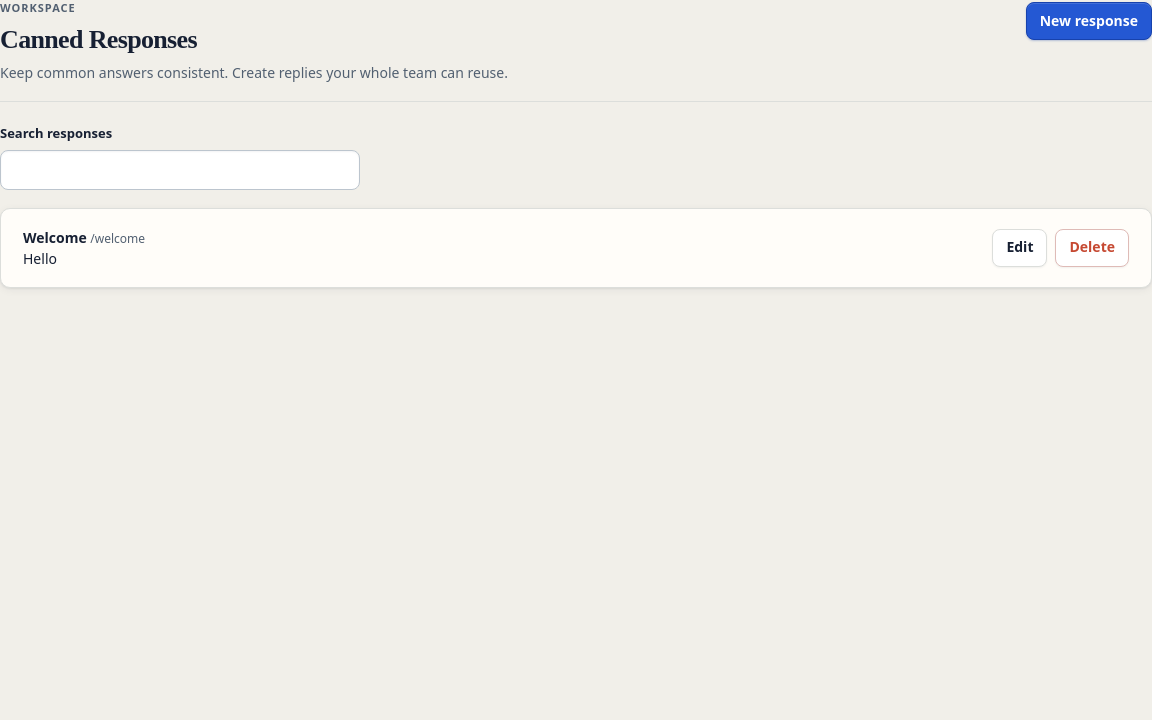
Test: Canned response recovery › edits a response in a dialog and closes it on save
Click the button "Edit". click: (1020, 248)
box: 992,229 -> 1048,267
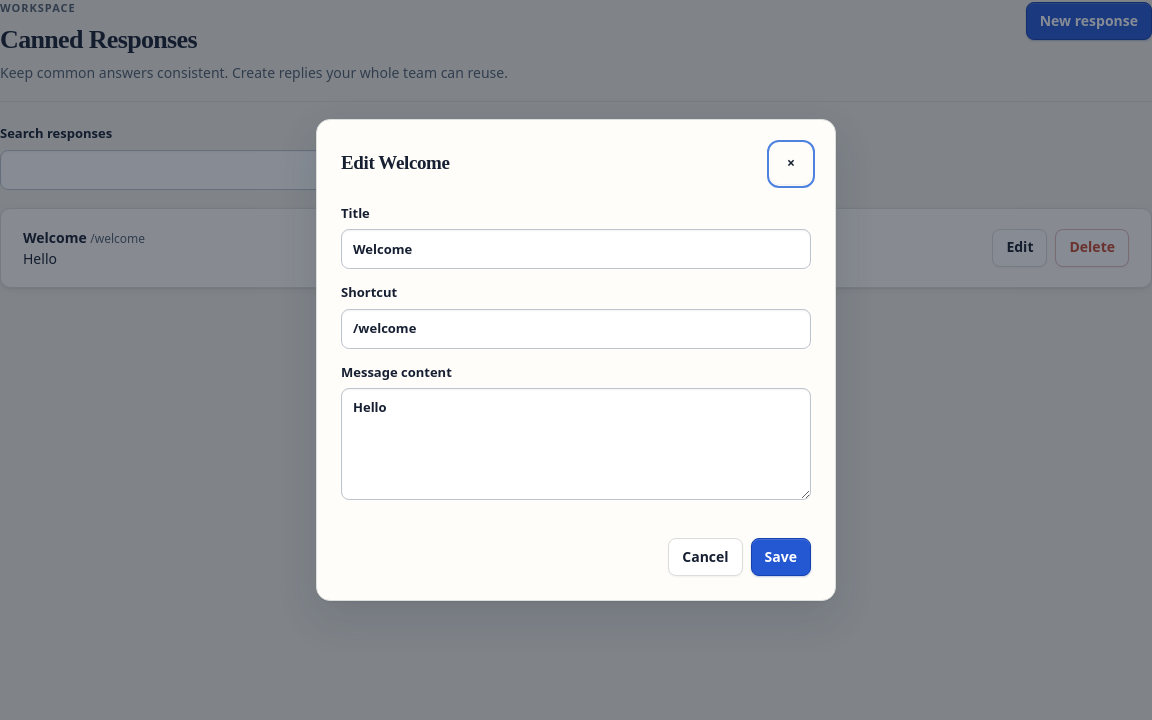
Check: the text box named "Edit content" holds "Hello"
Type " and welcome" into the text box named "Edit content". click: (576, 444)
box: 341,388 -> 811,500
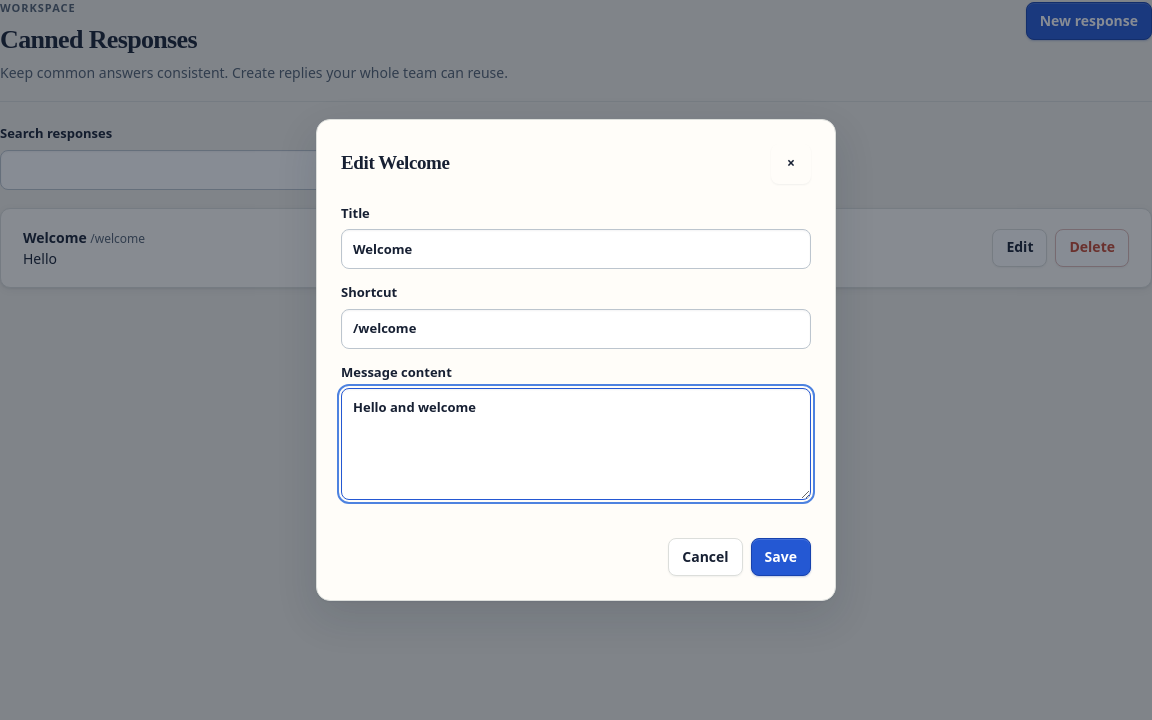
Click the button "Save". click: (781, 557)
box: 751,538 -> 811,576
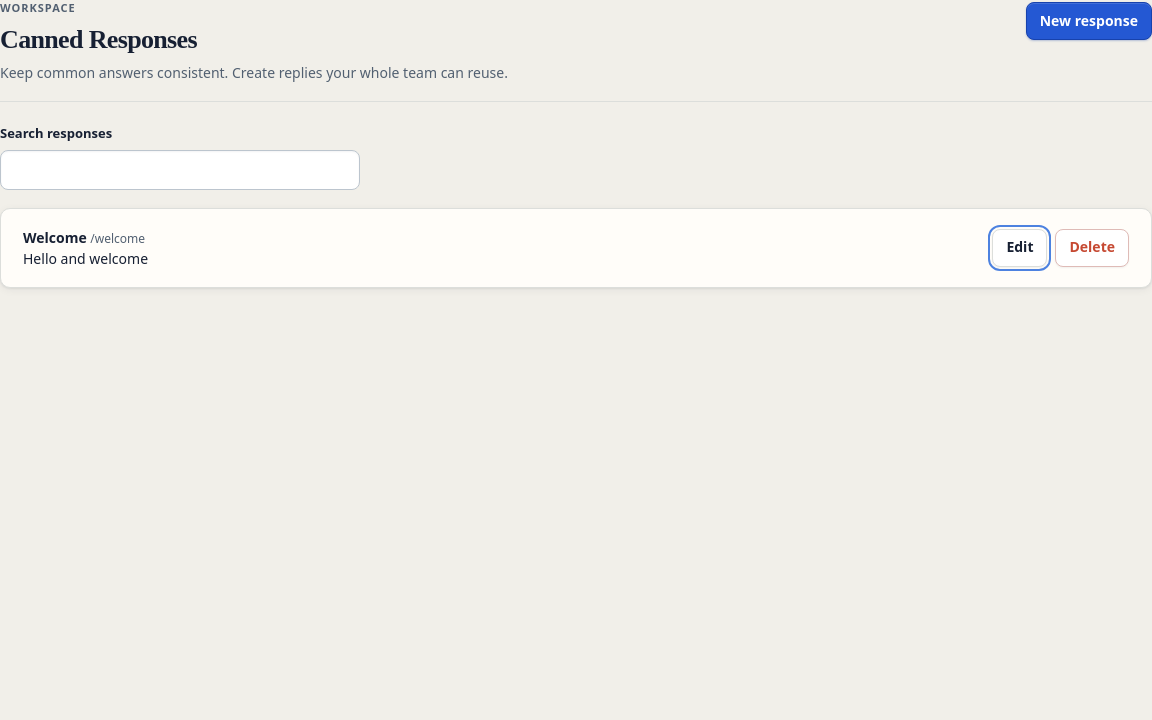
Check: the text "Hello and welcome" is shown, box 23,249 -> 148,268
